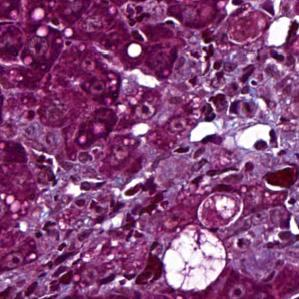ballooning: (163, 223, 228, 291), (196, 189, 245, 230)
